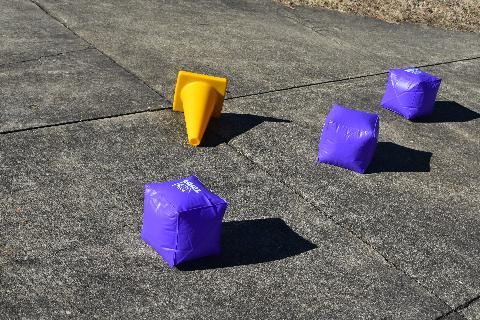cone: (173, 70, 227, 146)
cube: (140, 174, 228, 266), (318, 104, 378, 174), (381, 67, 441, 119)
